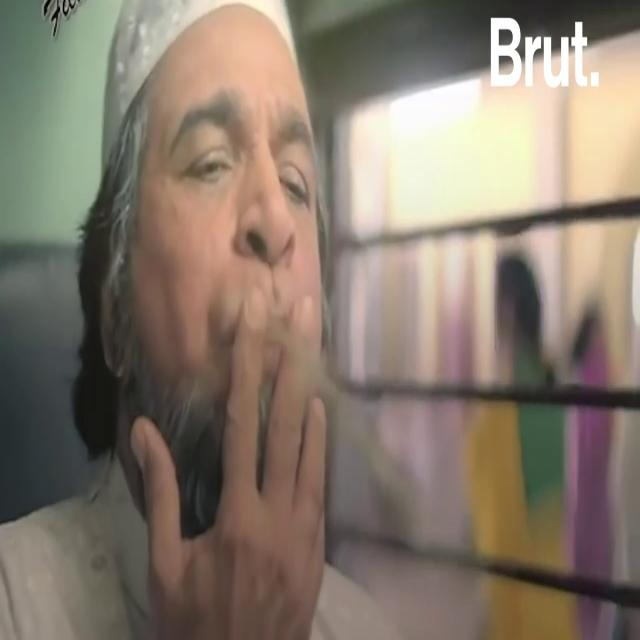spit: (88, 0, 490, 597)
